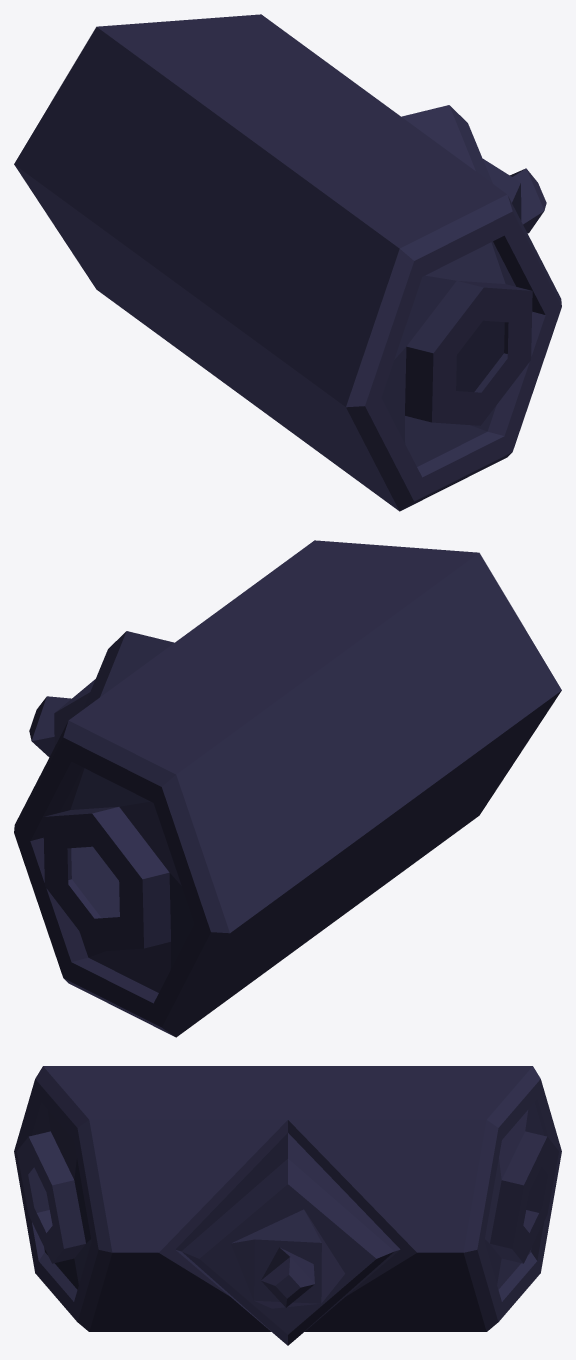
File: disposal_station.fbx
3 views of the same model, one above another, from view 1: azimuth 30°, elevation 25°; view 2: azimuth 150°, elevation 25°; view 3: azimuth 270°, elevation 25° (orthographic). The views are drawn at different scales.
Visible parts, largest first — view 1: 03-station; view 2: 03-station; view 3: 03-station.
Boxes of the visible parts, <box> form: 03-station: <box>14,14,561,511</box>; 03-station: <box>14,540,561,1037</box>; 03-station: <box>14,1066,561,1345</box>.
Bounding box in the file's own units: 24736 × 17321 × 40502.
